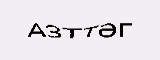М: (47, 23, 73, 47)
Х: (70, 25, 83, 47)
Ч: (28, 22, 48, 46)
Ш: (95, 19, 126, 46)
Ю: (79, 24, 98, 46)
